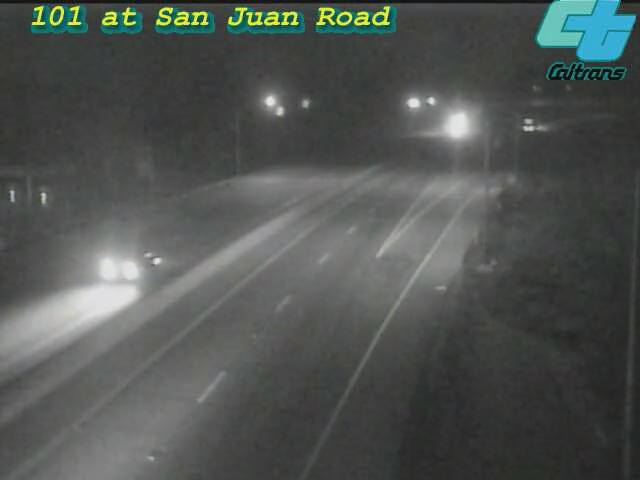vehicle: (88, 226, 168, 306), (430, 99, 480, 149), (507, 100, 557, 150)
